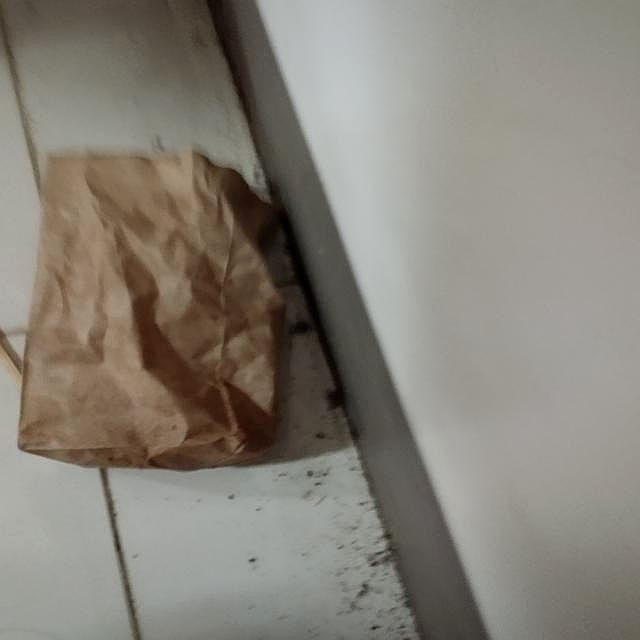Biodegradable: (15, 145, 289, 472)
